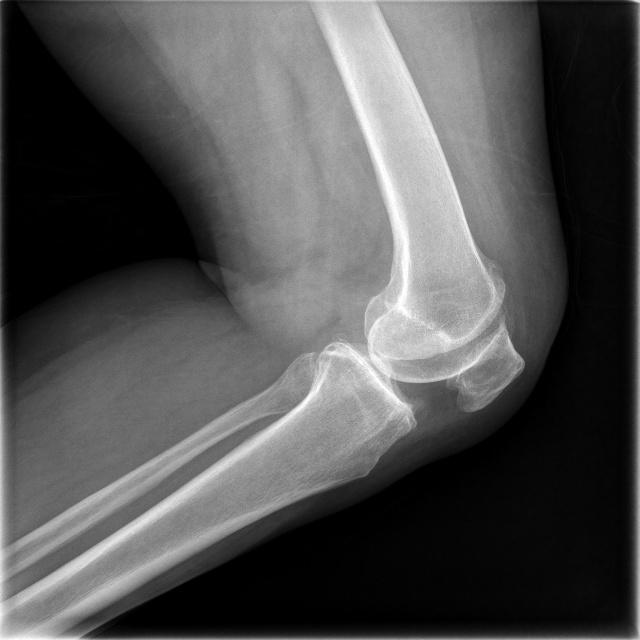Knee: (311, 285, 524, 442)
